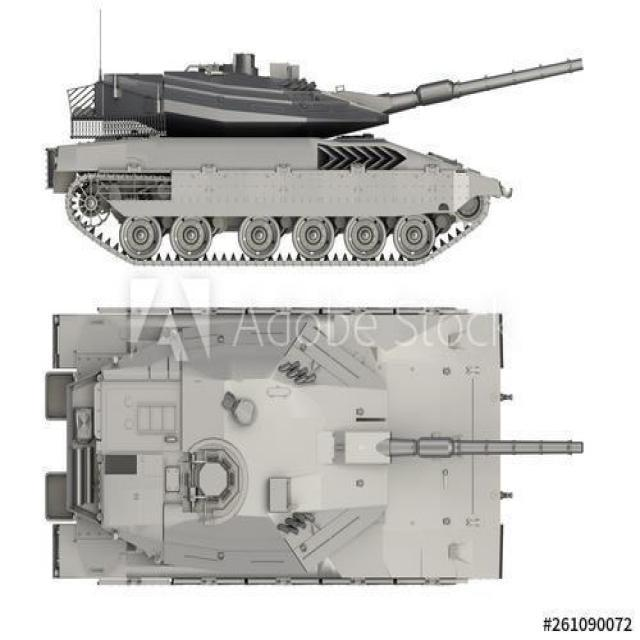MIL_MBT: (21, 299, 547, 594), (44, 18, 553, 276)
